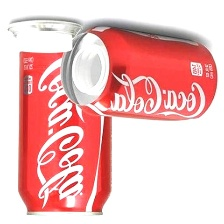can: (14, 42, 116, 219), (60, 24, 218, 125)
